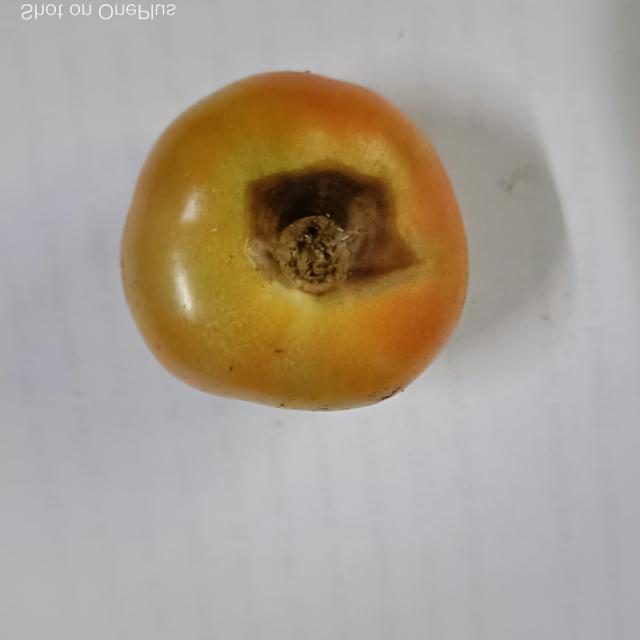Anthrocnose: (243, 160, 420, 298)
